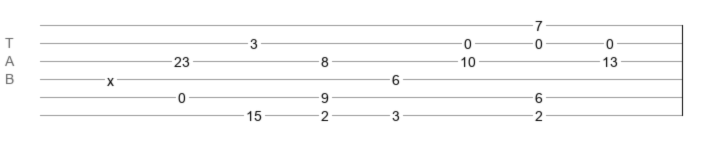0: (178, 90, 186, 100), (464, 36, 472, 46), (535, 36, 543, 46), (606, 36, 614, 46)
10: (460, 54, 476, 64)
13: (602, 54, 618, 64)
15: (246, 108, 262, 118)
2: (321, 108, 329, 118), (535, 108, 543, 118)
23: (174, 54, 190, 64)
3: (250, 36, 258, 46), (392, 108, 400, 118)
6: (392, 72, 400, 82), (535, 90, 543, 100)
7: (535, 18, 543, 28)
8: (321, 54, 329, 64)
9: (321, 90, 329, 100)
x: (107, 73, 114, 81)
